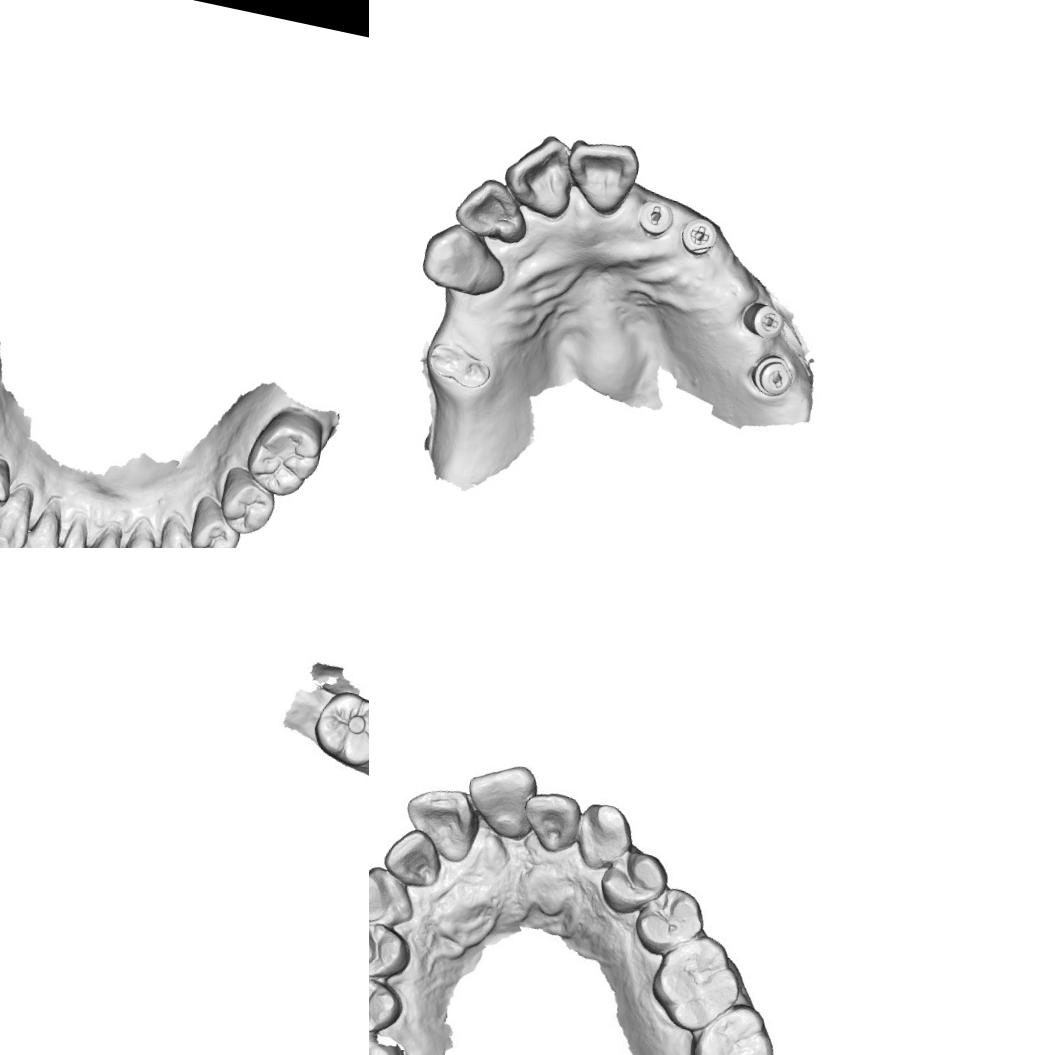canine: (414, 217, 518, 305), (570, 800, 634, 876), (369, 860, 424, 935), (0, 492, 33, 548), (151, 526, 208, 548)
implant_minus: (746, 350, 798, 404), (740, 293, 790, 344), (632, 195, 675, 238)
implant_plus: (679, 213, 724, 260)
incisor: (495, 125, 583, 223), (457, 754, 544, 846), (396, 778, 484, 867), (558, 130, 644, 221), (449, 171, 536, 246), (378, 824, 450, 892), (518, 786, 586, 858), (11, 515, 66, 548), (111, 527, 172, 548), (48, 525, 95, 548), (78, 532, 130, 548)
molar: (644, 929, 752, 1041), (239, 400, 332, 504), (681, 993, 782, 1055), (310, 688, 369, 766)
premolar: (630, 877, 711, 963), (590, 841, 671, 922), (212, 464, 282, 542), (183, 499, 247, 548), (369, 968, 409, 1044), (369, 918, 413, 986), (0, 458, 14, 519)
